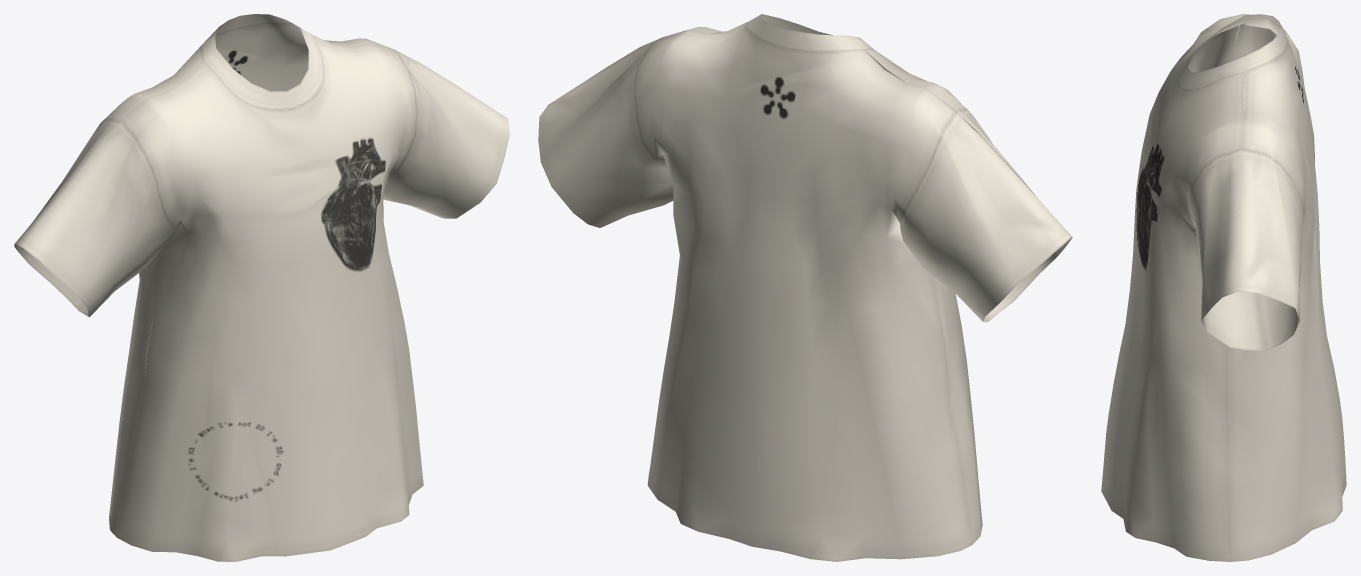
The model's file is tshirt_apose2.glb.
3 views of the same model, side by side, from view 1: azimuth 30°, elevation 25°; view 2: azimuth 150°, elevation 25°; view 3: azimuth 270°, elevation 25° (orthographic). The views are drawn at different scales.
Visible parts, largest first — view 1: tshirt_apose; view 2: tshirt_apose; view 3: tshirt_apose.
Boxes of the visible parts, <box> form: tshirt_apose: <box>14,14,509,561</box>; tshirt_apose: <box>538,14,1072,561</box>; tshirt_apose: <box>1101,14,1346,561</box>.
Bounding box in the file's own units: 0.7679 × 0.704 × 0.3368.
1 material, 1 textured.
